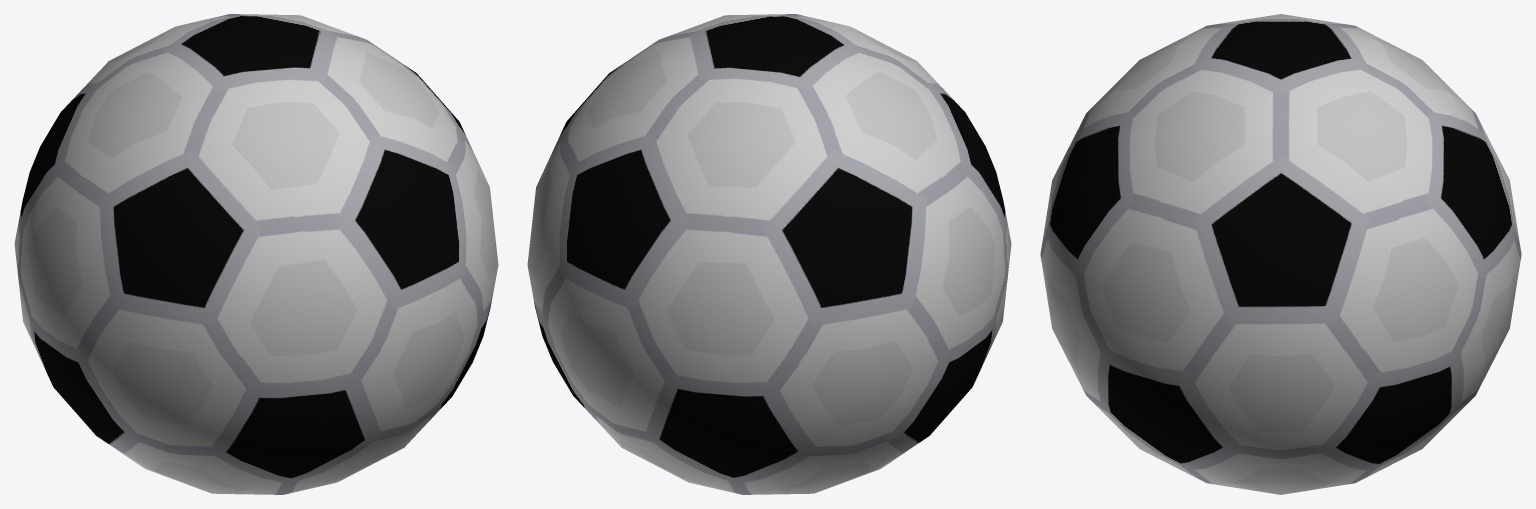
File: ball.glb
The picture shows the model from 3 angles, left to right: view 1: azimuth 30°, elevation 25°; view 2: azimuth 150°, elevation 25°; view 3: azimuth 270°, elevation 25°; orthographic projection.
Parts seen in each view (by area): view 1: SoccerBall_SoccerballMat_0; view 2: SoccerBall_SoccerballMat_0; view 3: SoccerBall_SoccerballMat_0.
Boxes of the visible parts, left/top/right/bottom form: SoccerBall_SoccerballMat_0: left=14, top=14, right=498, bottom=494; SoccerBall_SoccerballMat_0: left=527, top=14, right=1011, bottom=494; SoccerBall_SoccerballMat_0: left=1040, top=14, right=1521, bottom=494.
Bounding box in the file's own units: 1.15 × 1.15 × 1.15.
1 material, 1 textured.
